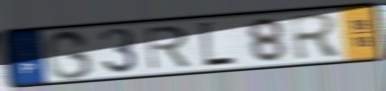3: (97, 27, 139, 75)
8: (244, 16, 290, 64)
G: (43, 28, 96, 82)
L: (196, 20, 238, 71)
R: (288, 11, 346, 62), (142, 23, 194, 72)
